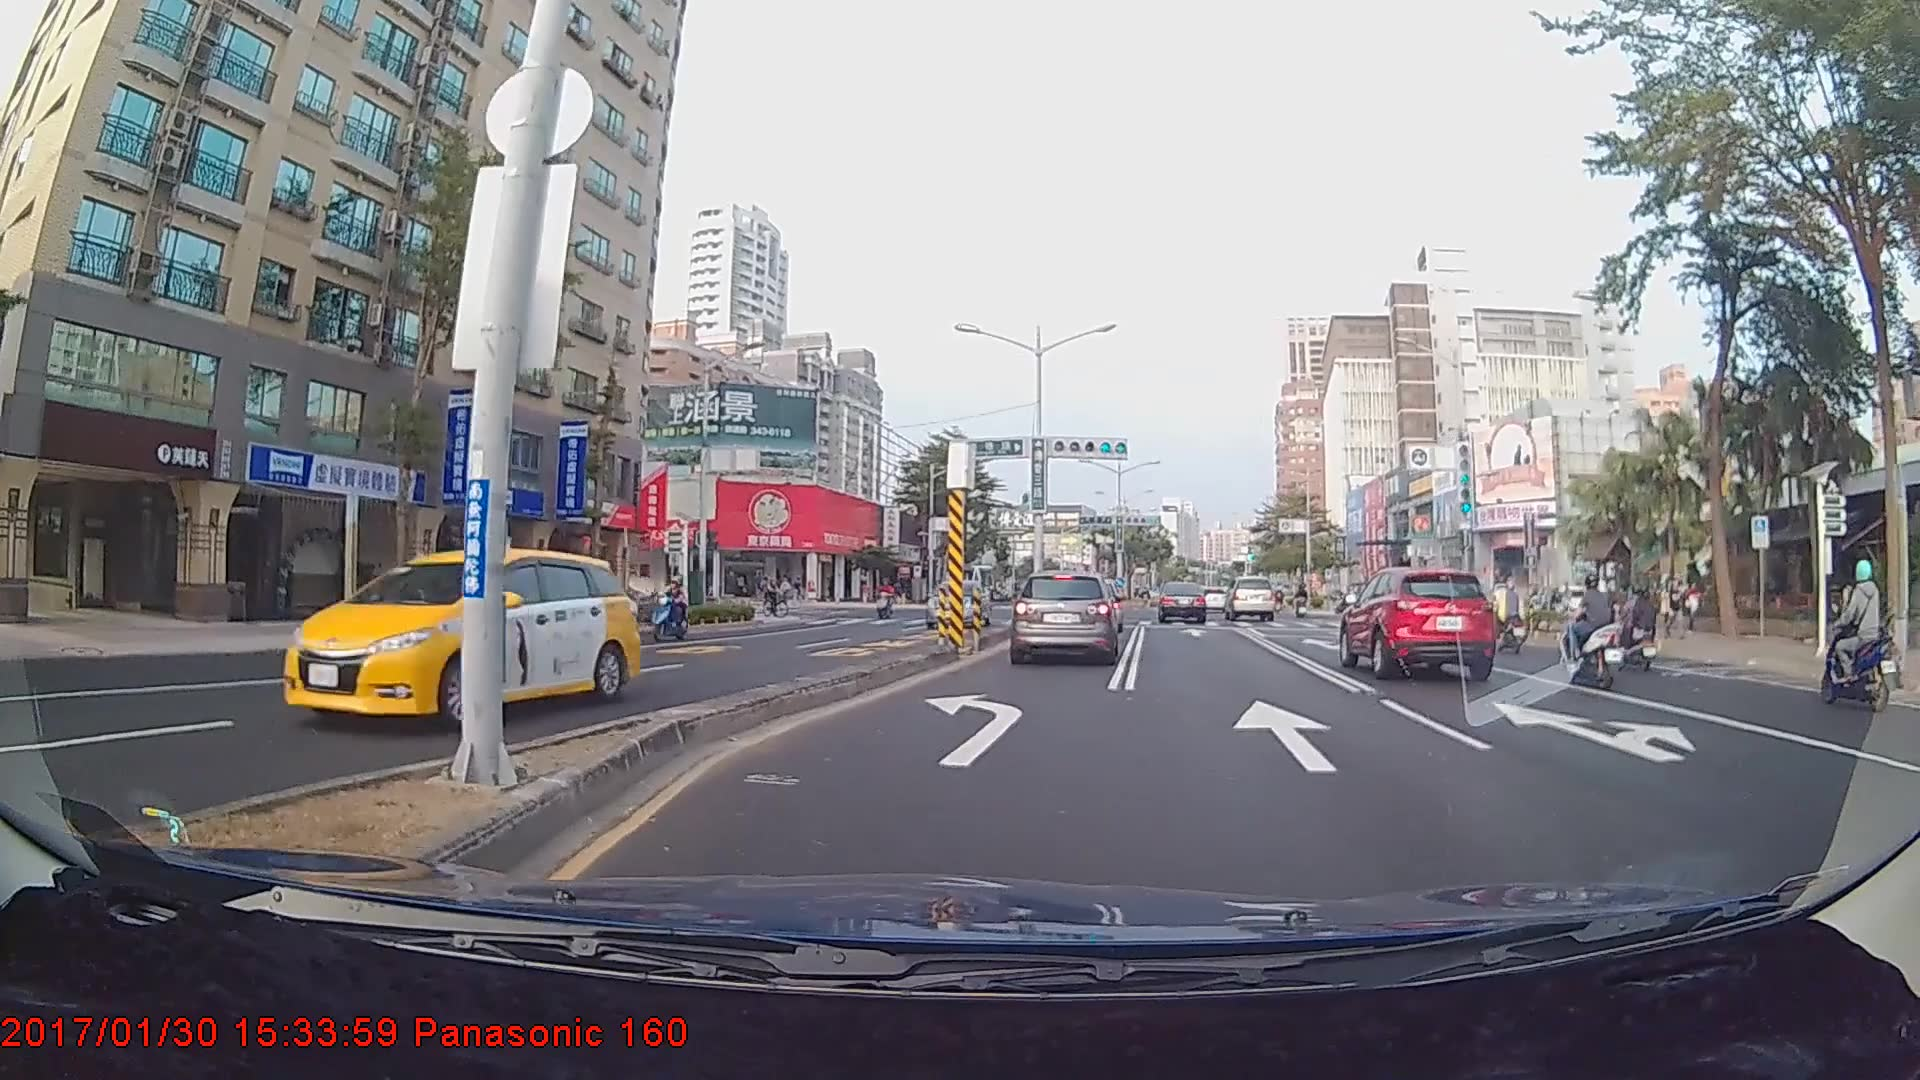pedestrian: (1664, 578, 1688, 641)
rider: (1808, 560, 1892, 721), (1556, 570, 1631, 688), (1606, 574, 1658, 675), (646, 576, 694, 647), (867, 576, 898, 622), (758, 576, 790, 620)
vehicle: (280, 548, 639, 728), (1339, 563, 1498, 680), (1011, 571, 1119, 665), (925, 579, 992, 627), (1223, 576, 1276, 622), (1158, 581, 1207, 623)
